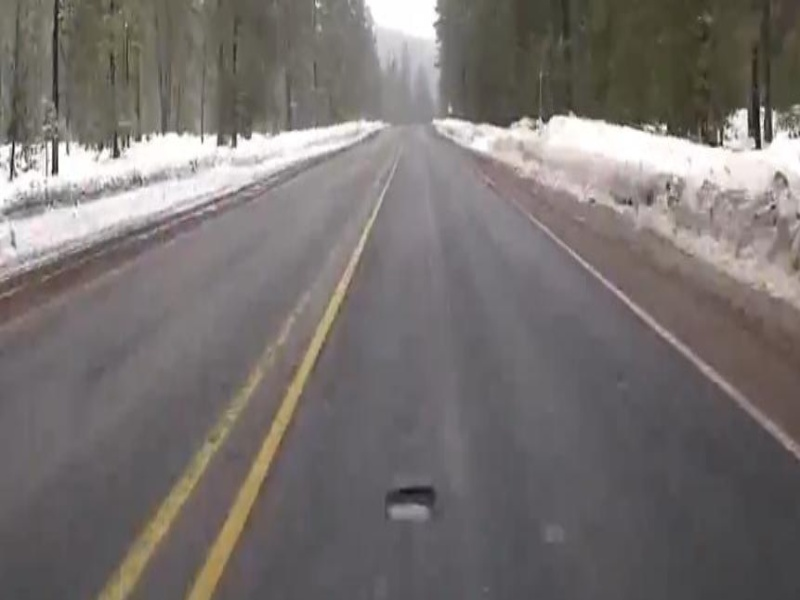pothole: (377, 483, 444, 527)
